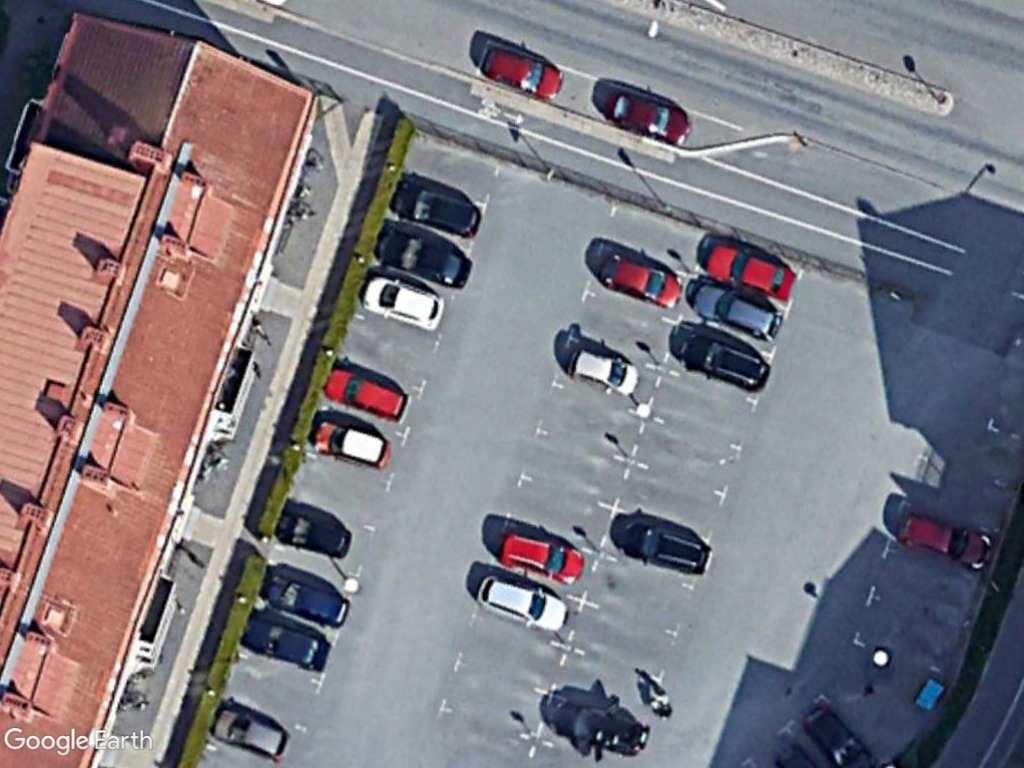car: (892, 508, 1001, 580), (473, 565, 579, 636), (698, 237, 801, 309), (615, 511, 717, 581), (686, 275, 784, 345), (235, 607, 337, 674), (672, 325, 774, 392), (596, 83, 697, 150), (371, 222, 476, 285), (387, 179, 489, 243), (490, 527, 589, 590), (595, 250, 688, 316), (321, 363, 413, 428), (479, 38, 569, 104), (206, 700, 296, 765), (355, 273, 447, 336), (263, 571, 358, 631), (311, 415, 397, 474), (275, 508, 357, 564), (565, 342, 645, 398)
